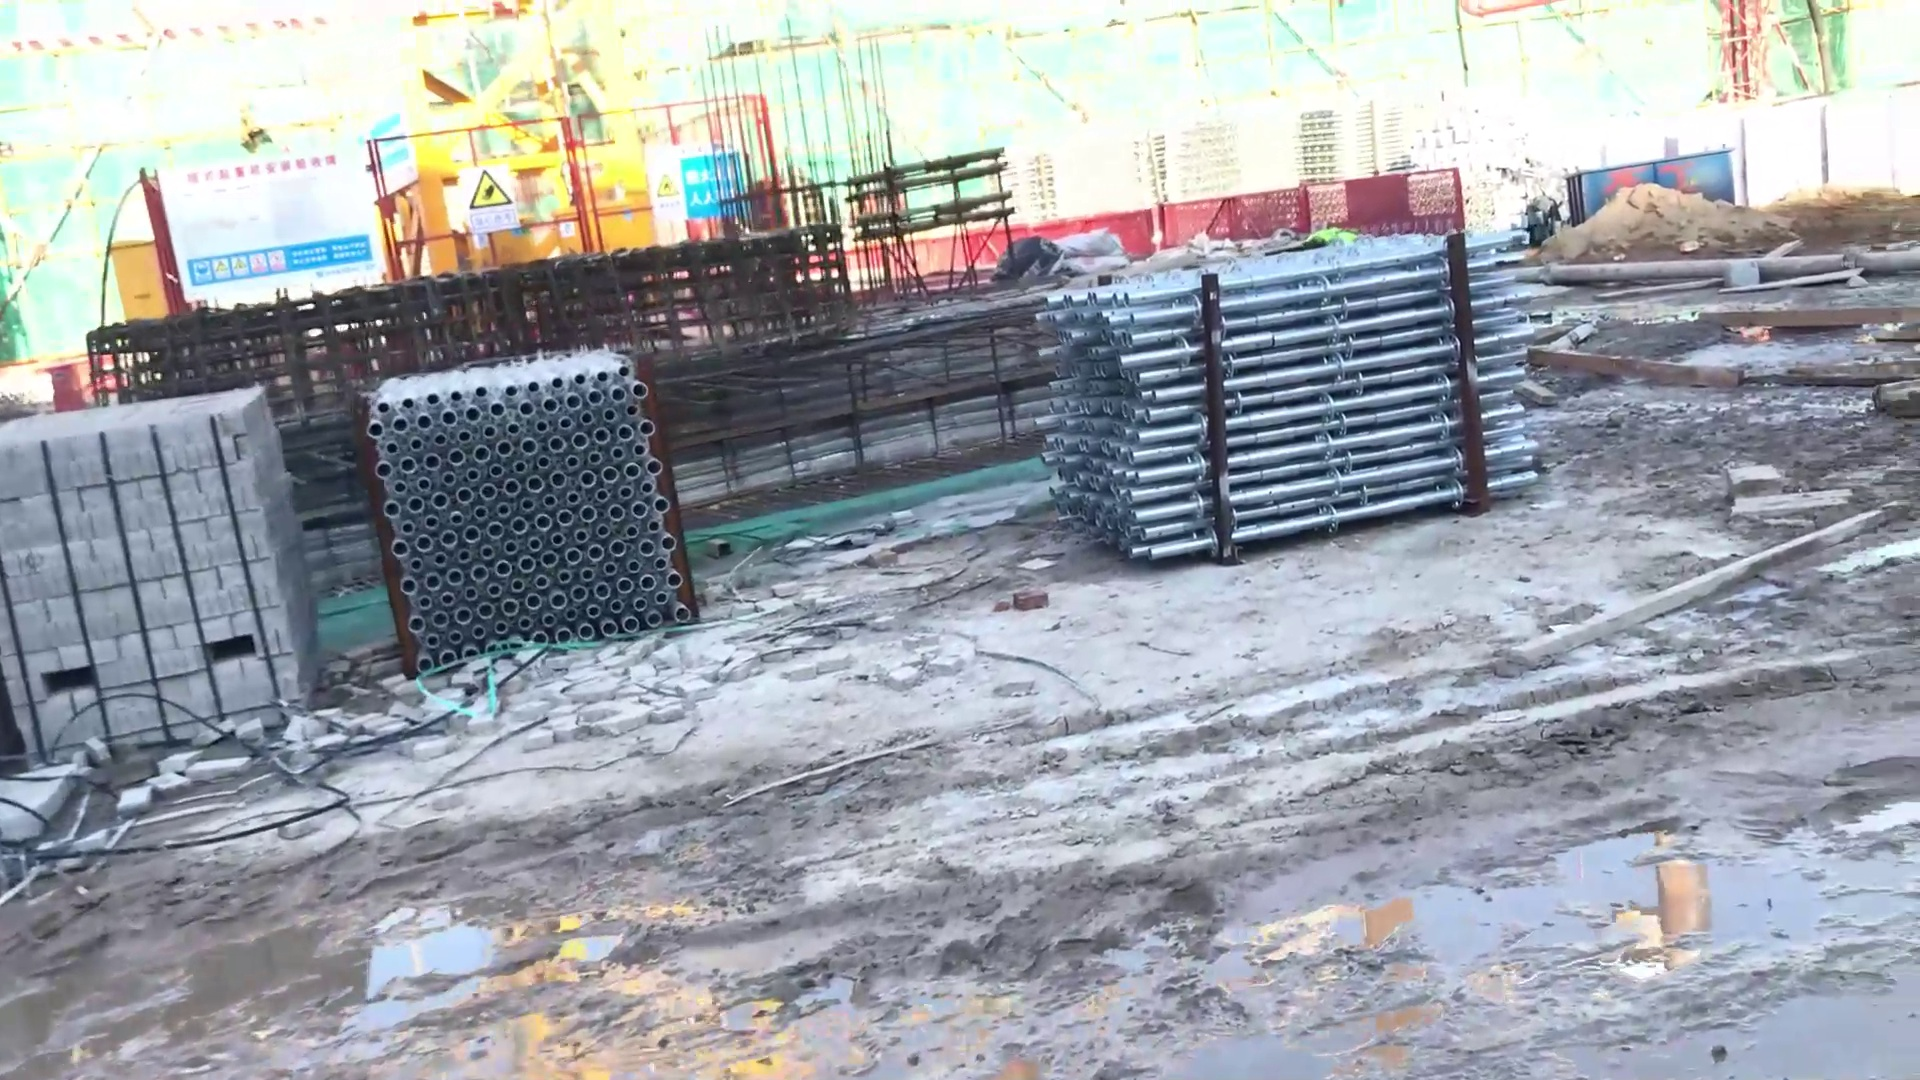brick: (1, 352, 328, 811)
ebox: (100, 232, 165, 322)
fence: (1149, 161, 1456, 241)
hopper: (1561, 127, 1738, 249)
scaffold: (1029, 256, 1576, 556), (338, 349, 700, 647)
slogan: (644, 145, 769, 227), (185, 240, 382, 284), (444, 156, 534, 235)
